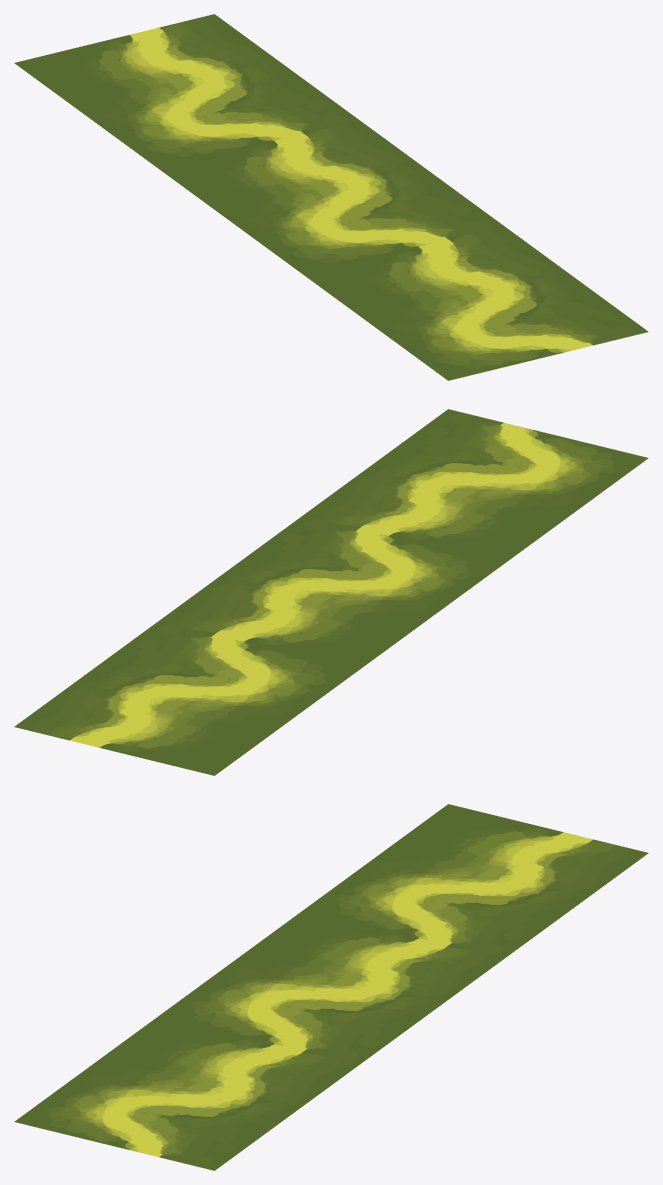
The model's file is landscape.fbx.
3 renders of one model, top to bottom at view 1: azimuth 30°, elevation 25°; view 2: azimuth 150°, elevation 25°; view 3: azimuth 330°, elevation 25°, orthographic.
Parts seen in each view (by area): view 1: Plane; view 2: Plane; view 3: Plane.
Boxes of the visible parts, x1,y1,x2,y2 form: Plane: (14,14,648,380); Plane: (14,409,648,775); Plane: (14,804,648,1170).
Size of the model in its own units: 4 by 9.18e-16 by 15.
1 material, 1 textured.
